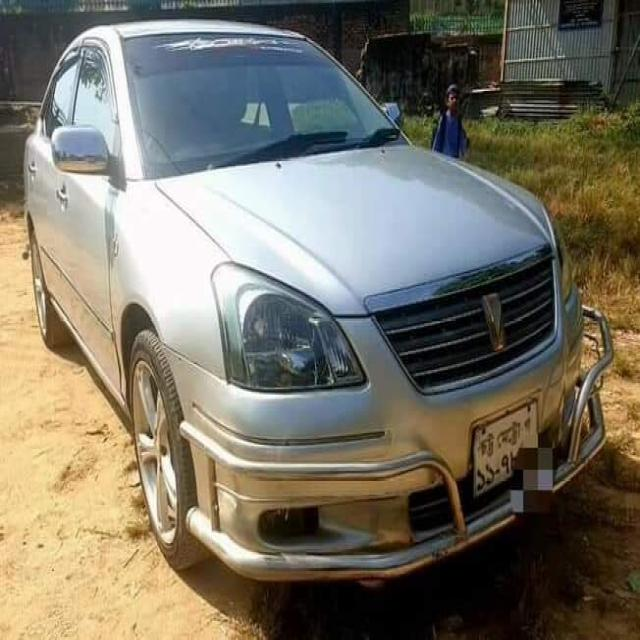silver: (21, 27, 602, 596)
